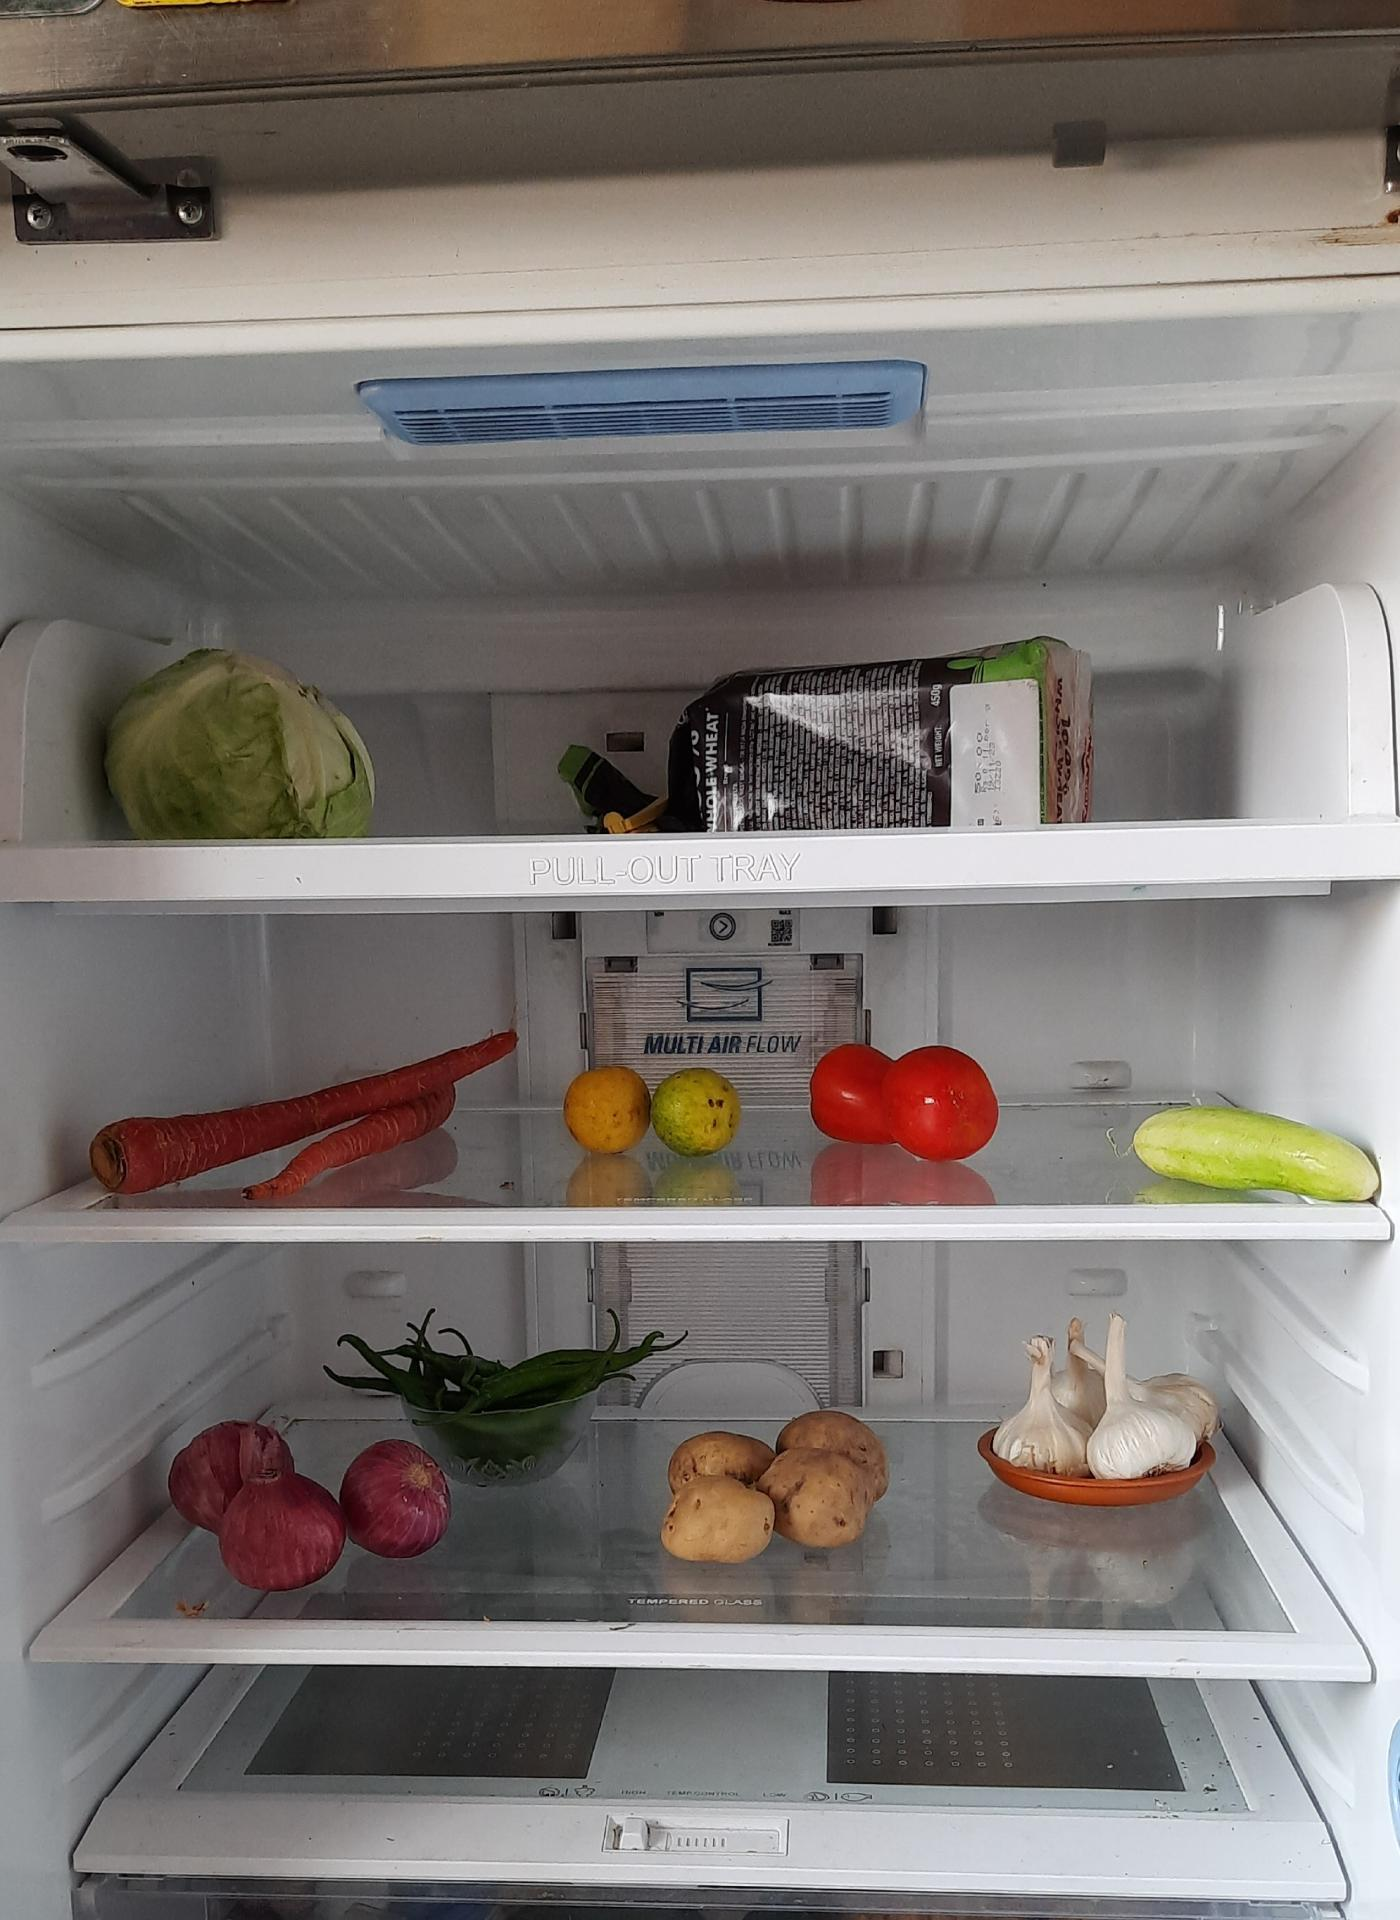bread: (675, 626, 1099, 823)
cabbage: (95, 644, 374, 835)
carrots: (81, 1030, 514, 1197)
chillies: (347, 1319, 623, 1471)
cucumber: (1121, 1103, 1384, 1201)
garlic: (991, 1315, 1217, 1486)
lemon: (564, 1061, 744, 1157)
onion: (168, 1419, 455, 1588)
potato: (662, 1409, 890, 1561)
tomato: (807, 1038, 994, 1154)
